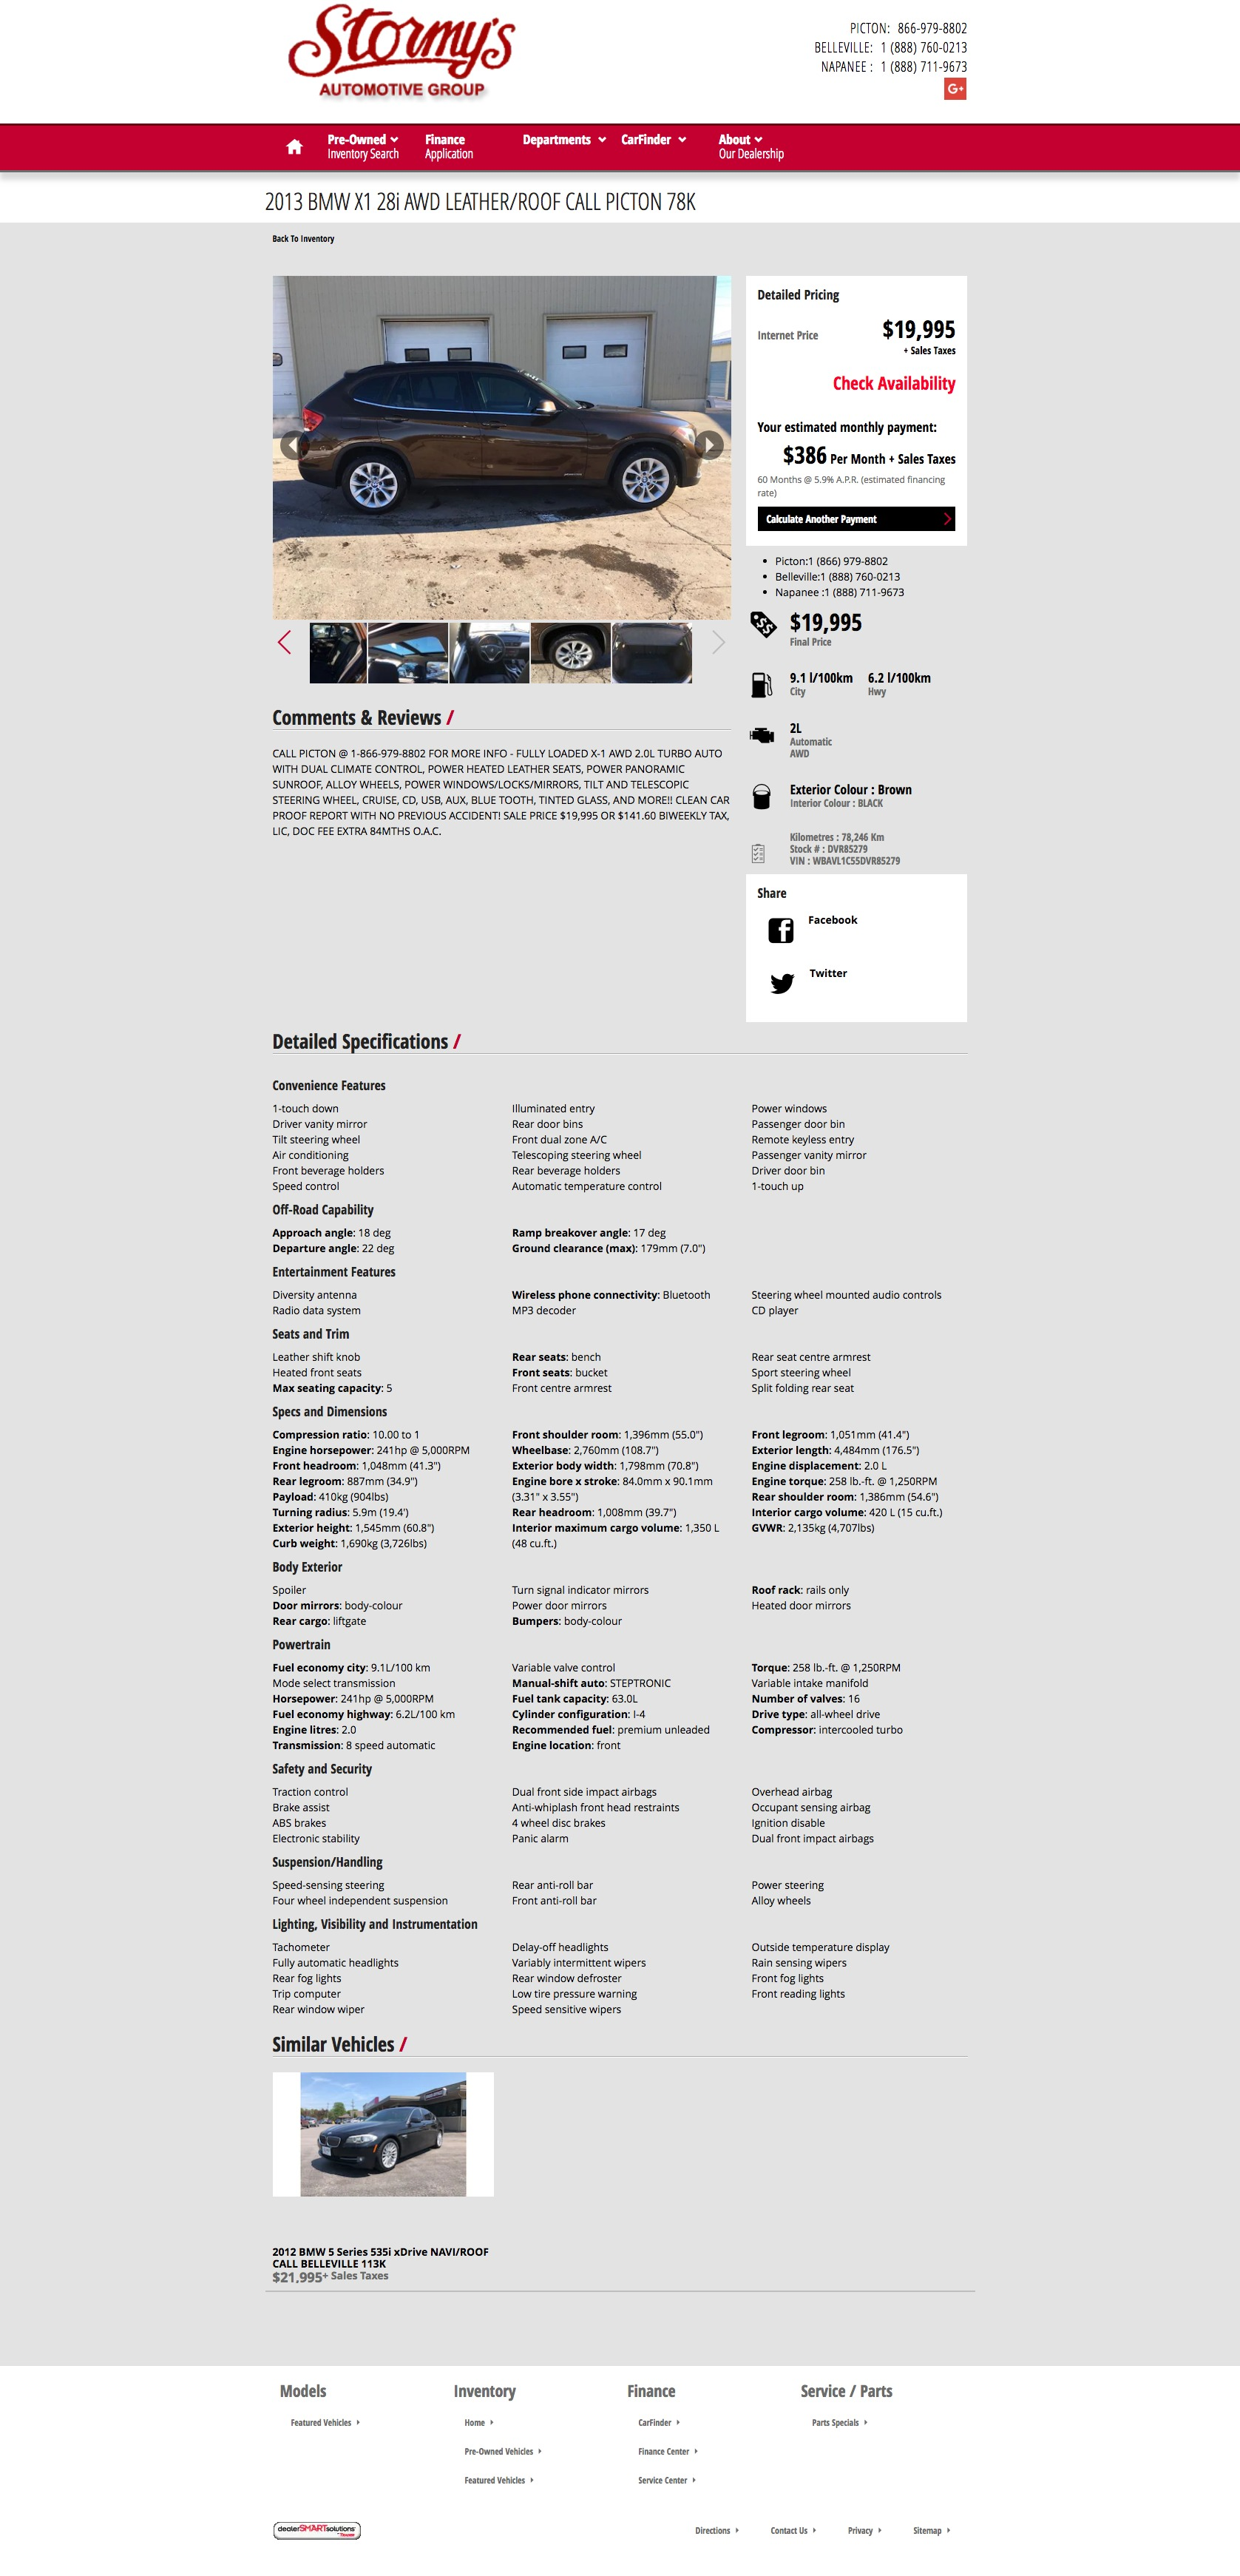car: (710, 629, 728, 655)
